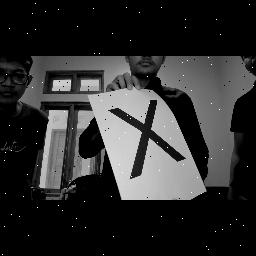x: (102, 92, 200, 186)
